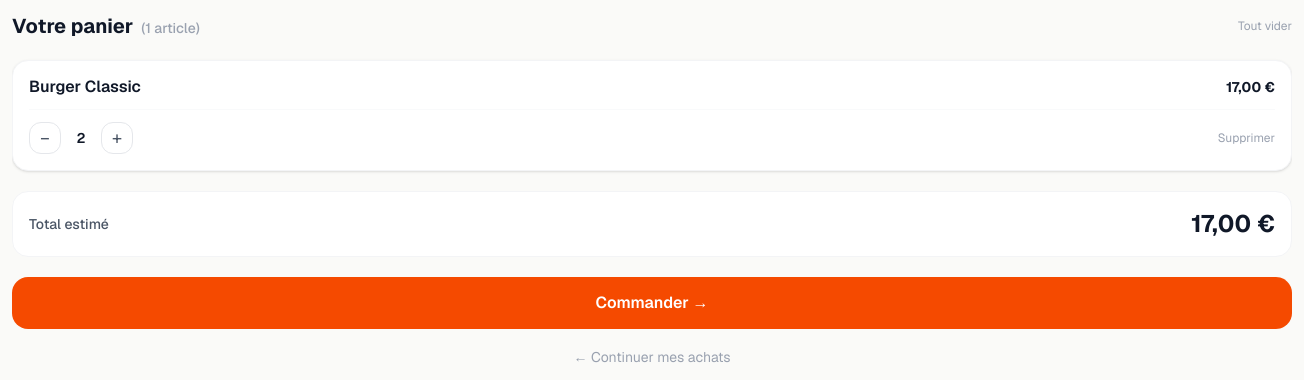
Panier › bouton "Tout vider" → panier réinitialisé
expect the text "Burger Classic" is shown: met, box [29,77,141,97]
What coordinates should you click on to do the following:
click the button "Tout vider"
I would click on:
 (1265, 26)
Its box is [1238,18,1292,34].
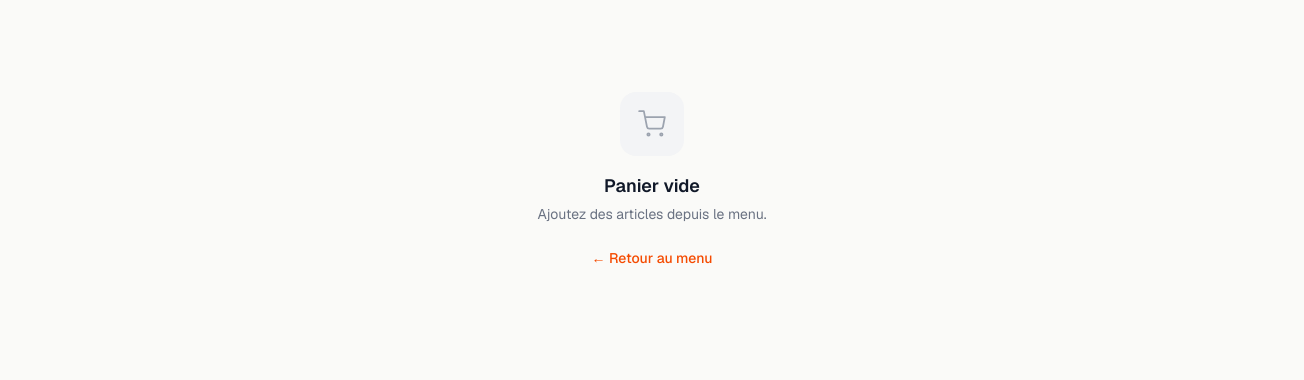
expect the text "Panier vide" is shown: met, box [604,172,700,200]
